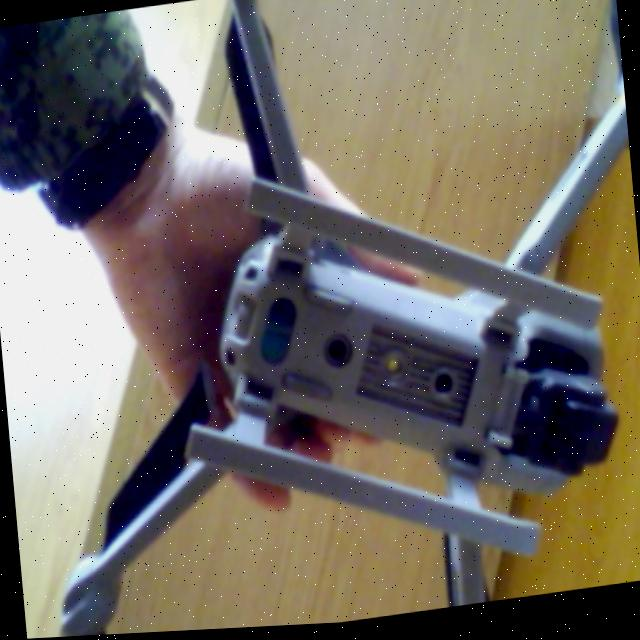drone: (22, 0, 640, 639)
